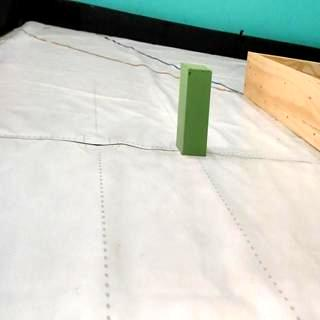greenbox: (176, 61, 213, 158)
